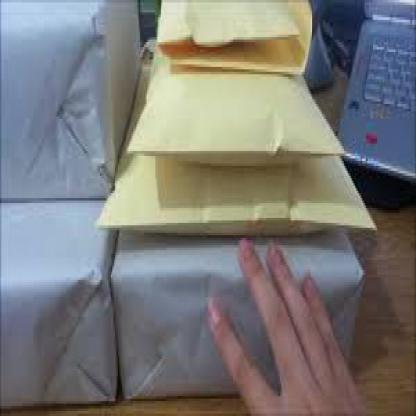paquete: (108, 223, 366, 406), (1, 188, 122, 411), (1, 2, 140, 196)
